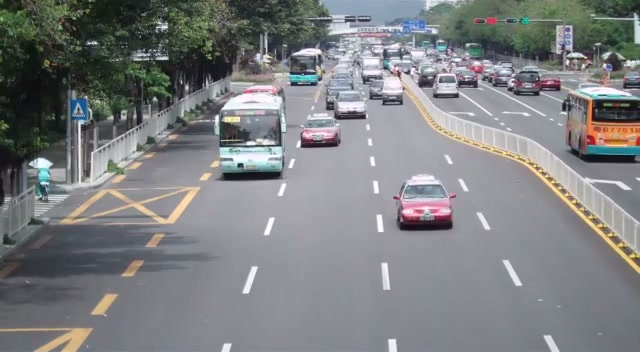bus: (561, 84, 640, 161), (218, 92, 287, 177), (289, 48, 322, 86)
car: (392, 174, 456, 230), (300, 114, 342, 148), (334, 90, 367, 119), (507, 69, 542, 96), (325, 78, 354, 109), (432, 74, 459, 99), (380, 78, 404, 105), (417, 66, 438, 87), (455, 69, 478, 87), (492, 69, 513, 86), (622, 71, 640, 89), (540, 77, 562, 91), (369, 79, 384, 99)
pedestrian: (37, 168, 51, 202)
truck: (361, 57, 383, 84)
